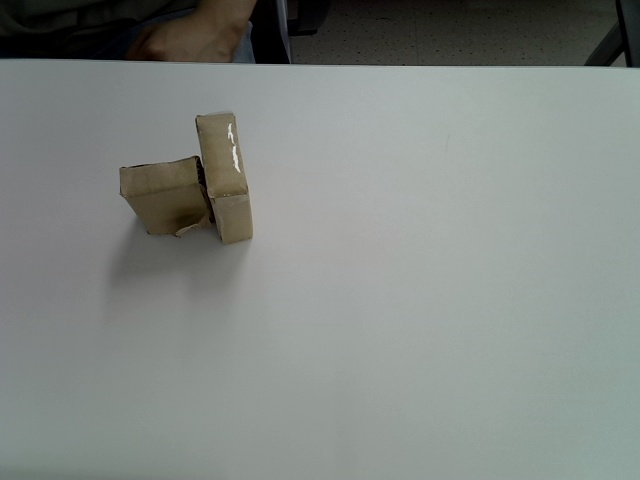defect: (119, 155, 213, 237)
normal: (196, 113, 252, 242)
